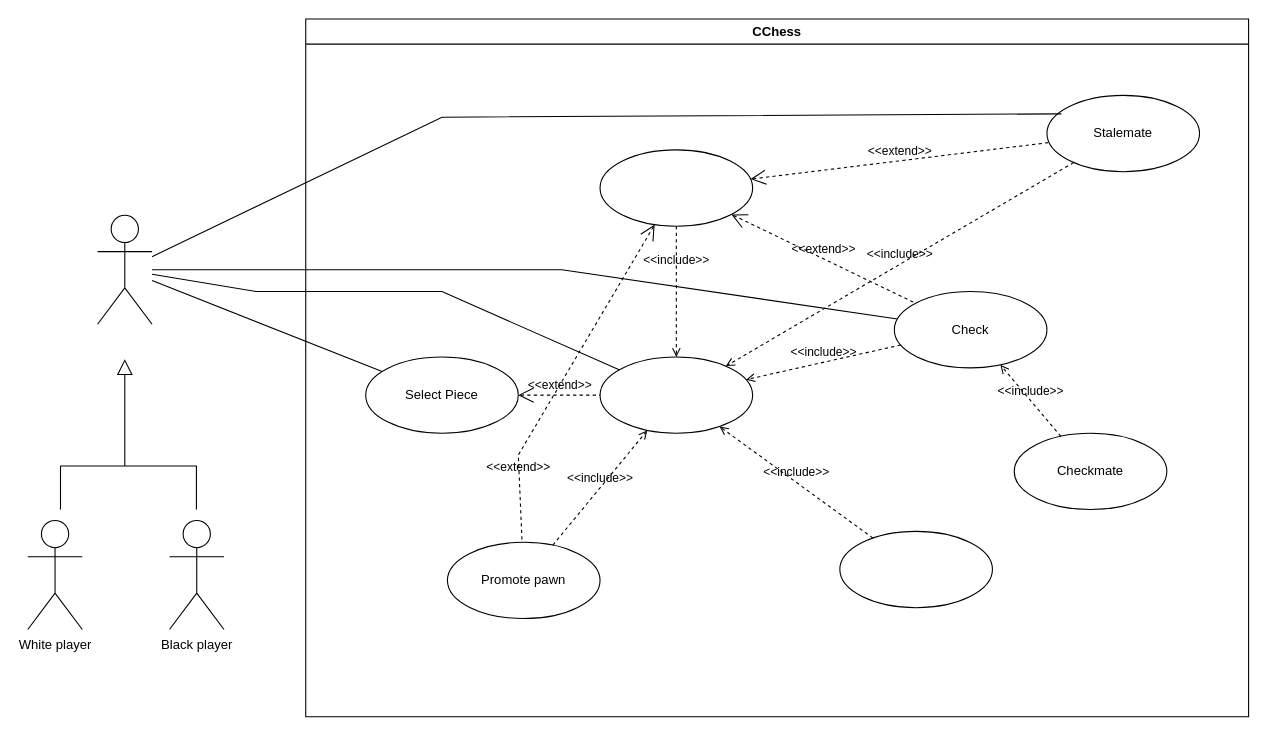
Image size: 1268x736. Some labels were removed from this diagram. Here are the shapes that lost their labels. From the top down, the centre of each, then its label:
At point 676,187: "Capture piece".
At point 124,269: "Player".
At point 676,394: "Move piece".
At point 915,569: "Castle".
